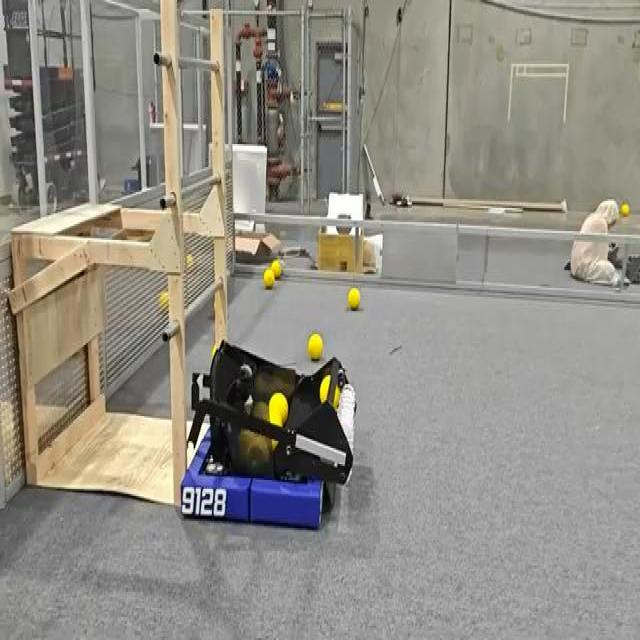Fuel: (269, 392, 288, 427), (320, 375, 339, 408), (308, 334, 323, 361), (319, 375, 330, 402), (348, 288, 360, 310), (347, 288, 359, 309), (263, 268, 274, 288), (271, 260, 282, 279), (160, 291, 170, 311), (264, 270, 274, 289), (271, 260, 281, 278), (333, 385, 340, 409), (158, 292, 168, 306), (620, 203, 629, 215), (622, 203, 630, 216), (186, 254, 193, 268)
